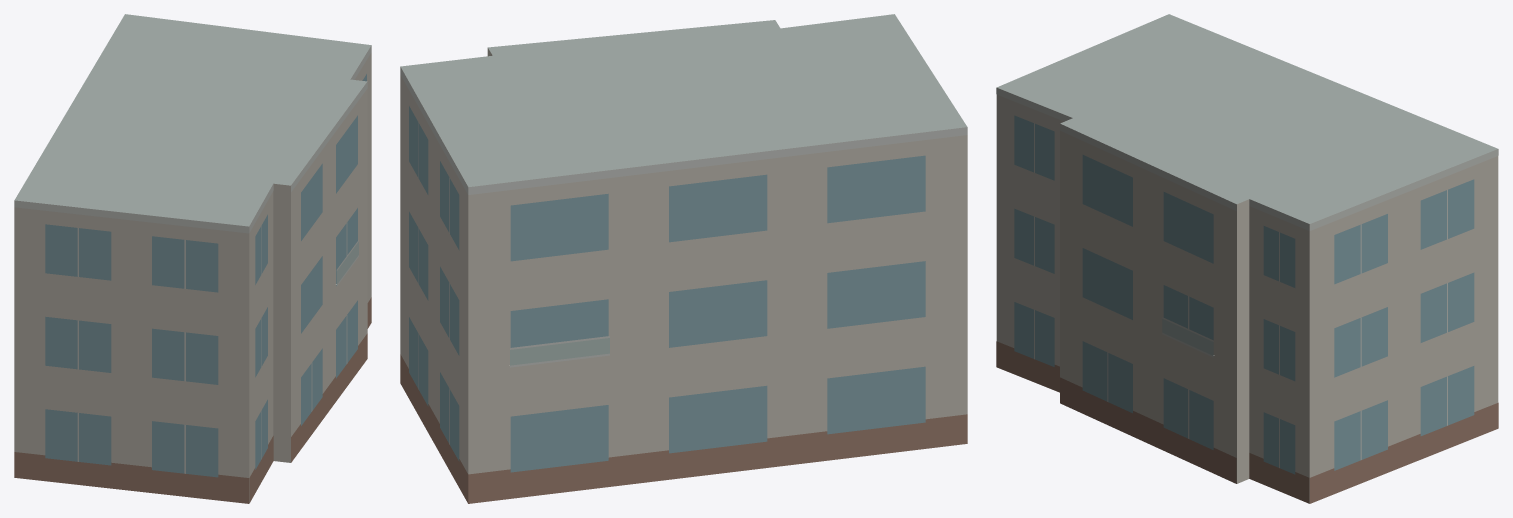
File: survey-upis-32626493.glb
3 views of the same model, side by side, from view 1: azimuth 30°, elevation 25°; view 2: azimuth 150°, elevation 25°; view 3: azimuth 270°, elevation 25° (orthographic). The views are drawn at different scales.
Visible parts, largest first — view 1: survey-upis-32626493.tmp; view 2: survey-upis-32626493.tmp; view 3: survey-upis-32626493.tmp.
Part boxes in pixels (x1,y1,x2,y2): survey-upis-32626493.tmp: (14,14,371,503); survey-upis-32626493.tmp: (400,14,967,503); survey-upis-32626493.tmp: (996,14,1498,503).
Bounding box in the file's own units: 15.8 × 9.8 × 15.94.
